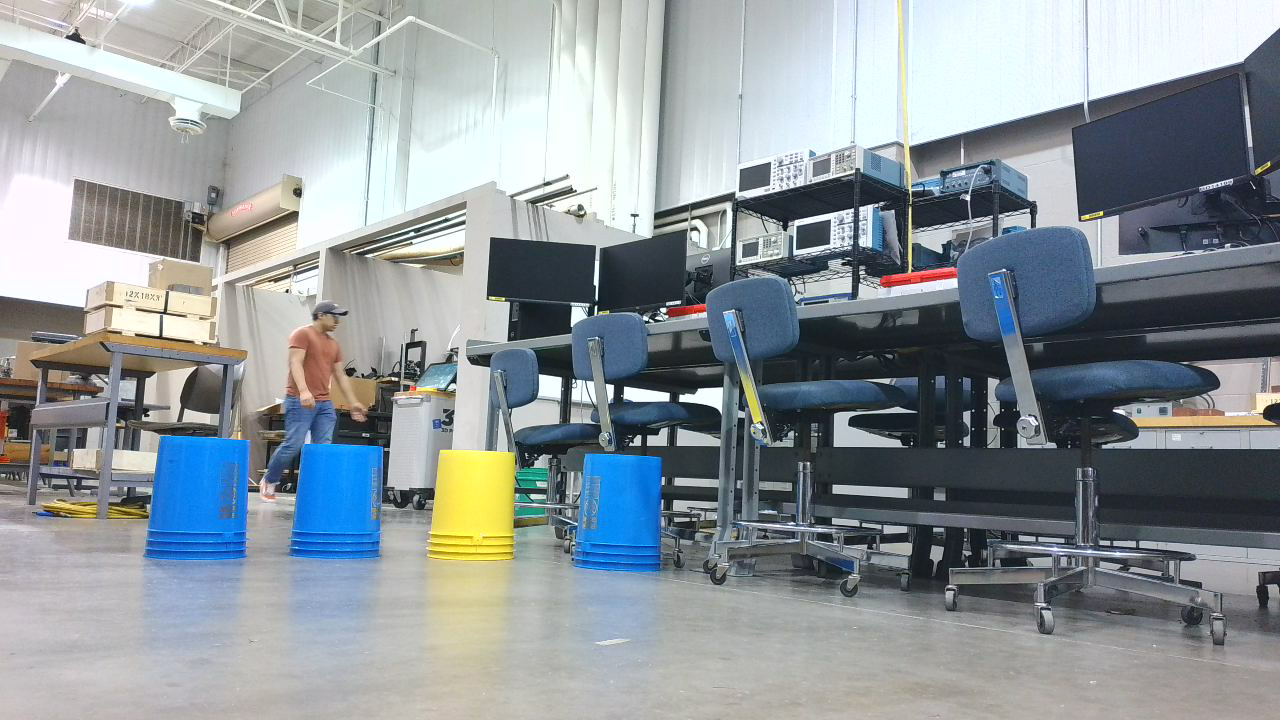blue_bucket: (145, 435, 257, 569), (570, 452, 675, 583), (292, 445, 395, 568)
yellow_bucket: (422, 451, 527, 573)
